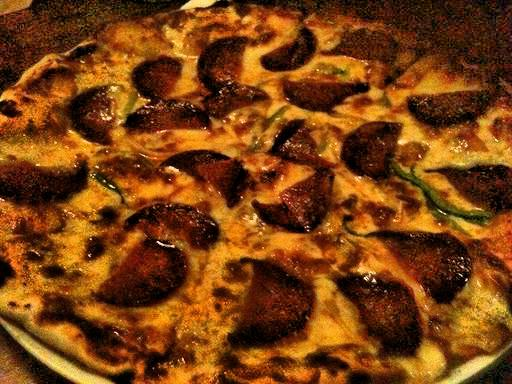pizza: (5, 11, 512, 379)
